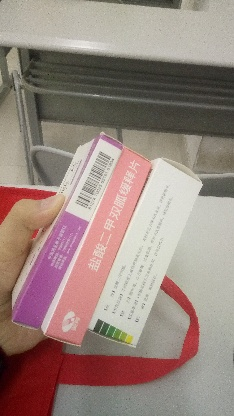pillbox: (44, 147, 152, 347), (96, 158, 204, 347), (12, 136, 119, 326)
